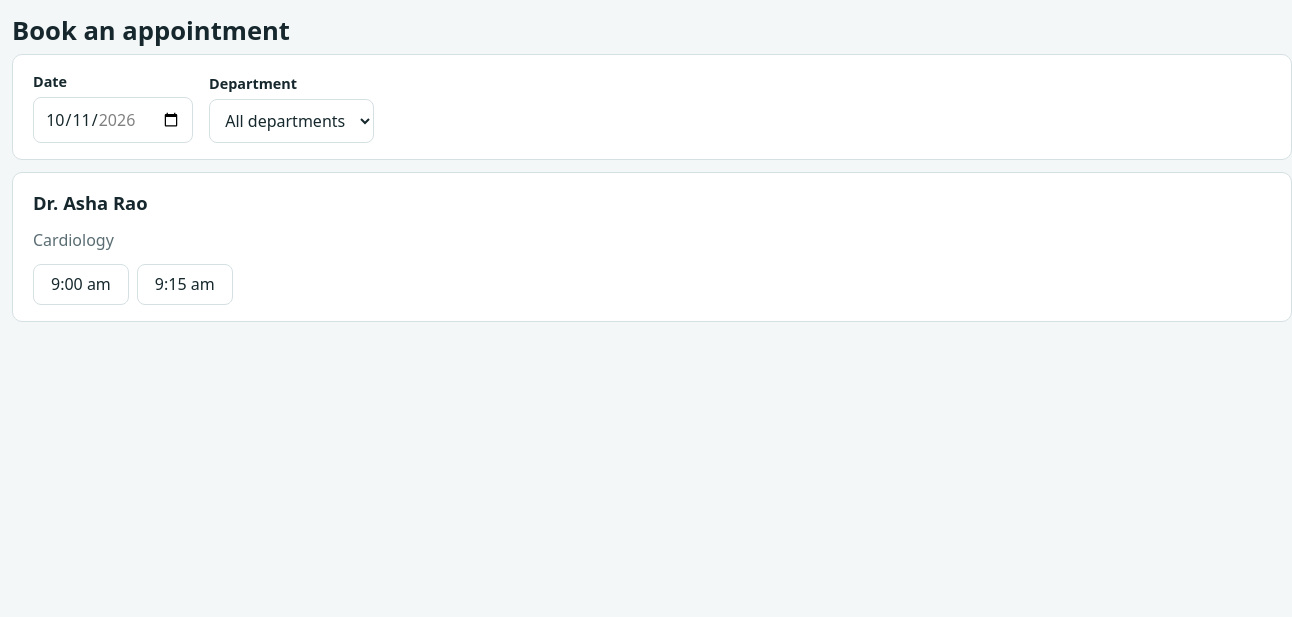
when the slot was just taken, says so and reloads what is free
Step 1. Click the button "9:00 am" → (81, 284), box [33,264,129,305]
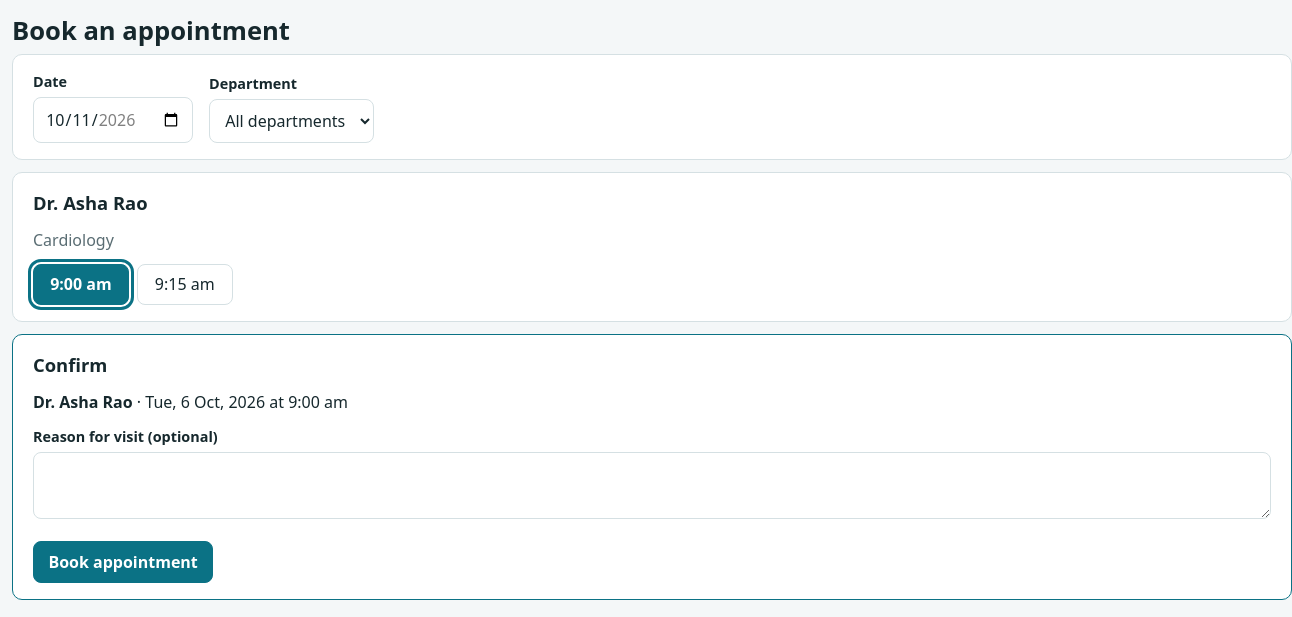
Step 2. Click the button "Book appointment" → (123, 562), box [33,541,213,583]
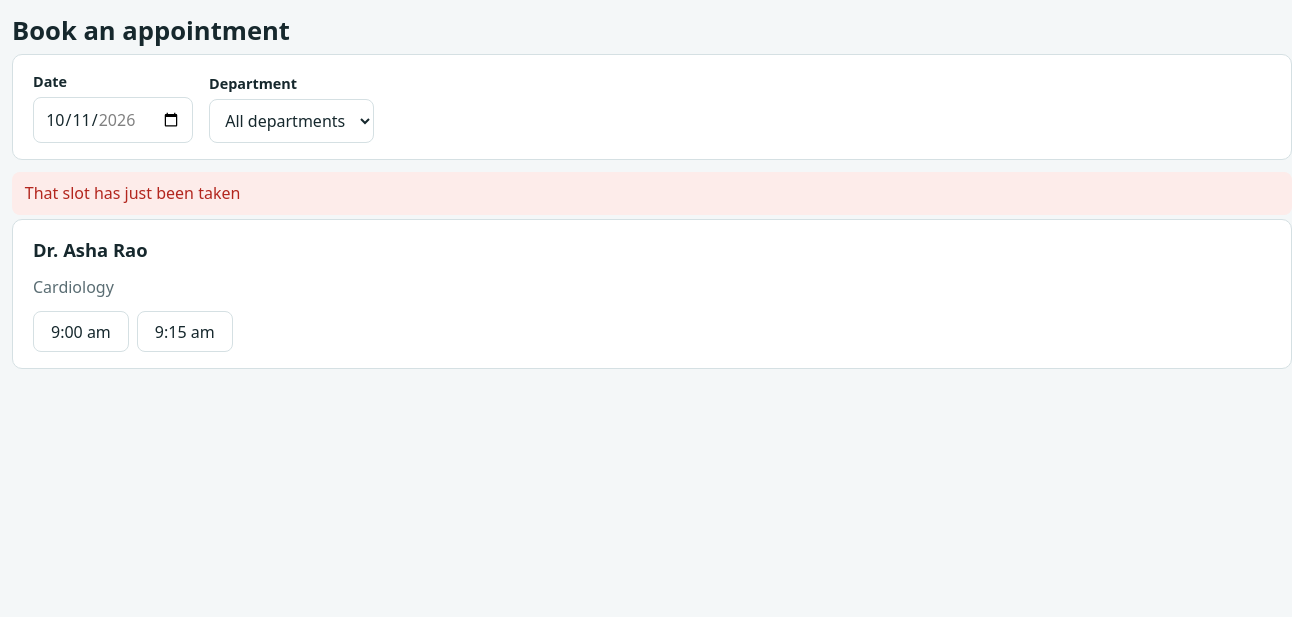
Result: the message reads "That slot has just been taken" at [25,182,240,204]
